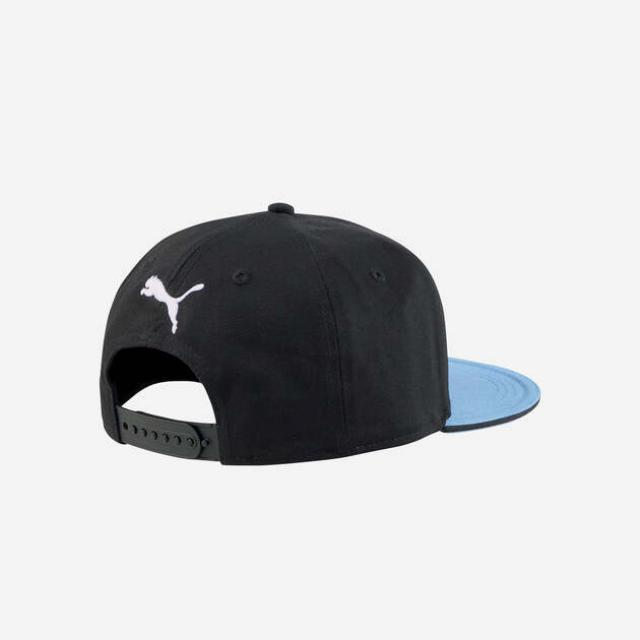Nonhelmet: (89, 189, 549, 480)
